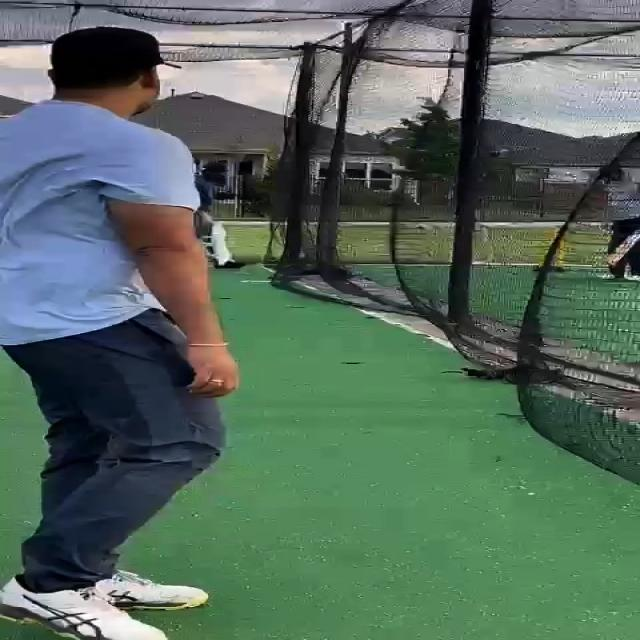batsman: (194, 176, 248, 270)
